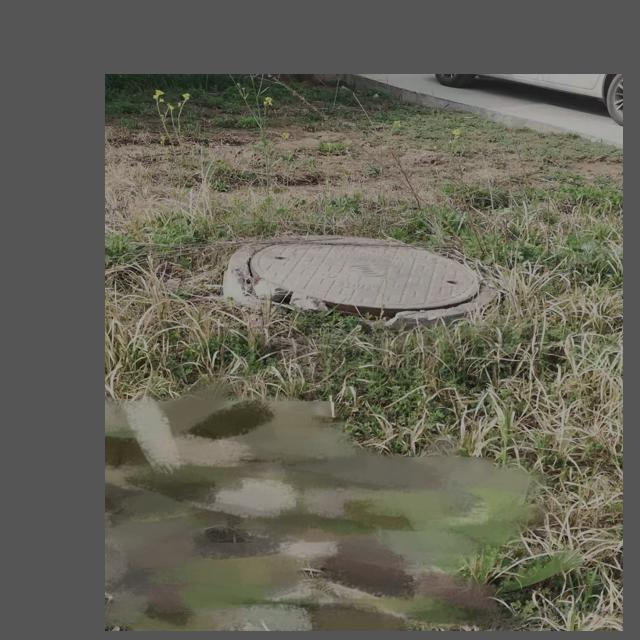circle: (225, 229, 516, 330)
